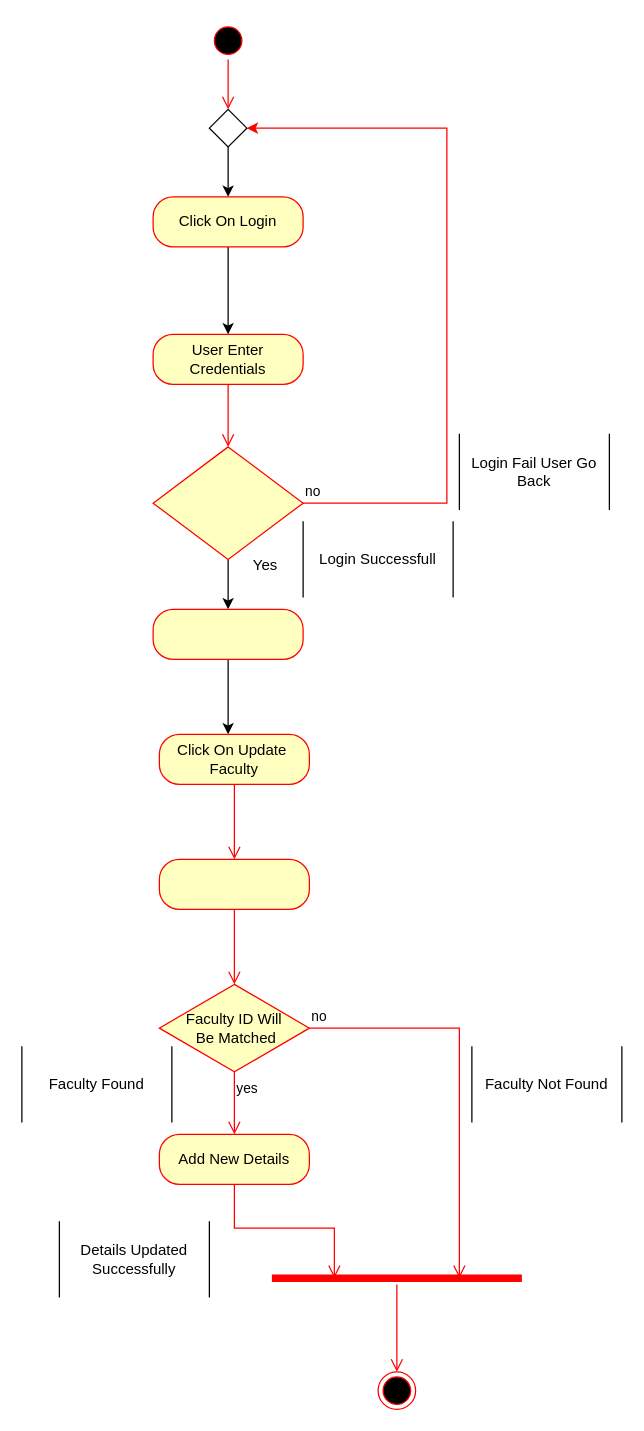
This 644x1431 diagram has some shape labels left out. Here are the shapes that lost their labels. From the top down, the centre of each, then its label:
(227,502): User Credentials Will Be Checked in DB
(227,633): Click On Update Student / Faculty
(233,883): Add Faculty ID To Update
